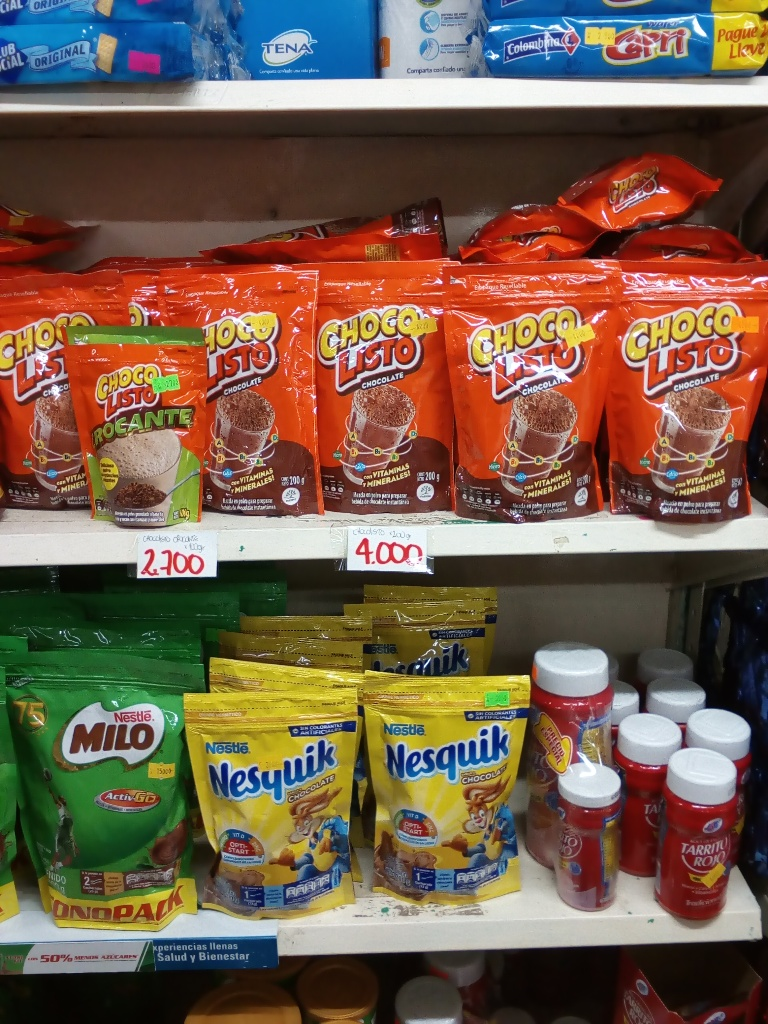COL0170102DYP10000: (61, 326, 224, 534)
COL0170103DYP20000: (0, 260, 155, 511)
COL0170203DYP50000: (1, 638, 208, 921)
COL0170303DYP20000: (187, 683, 367, 913)
